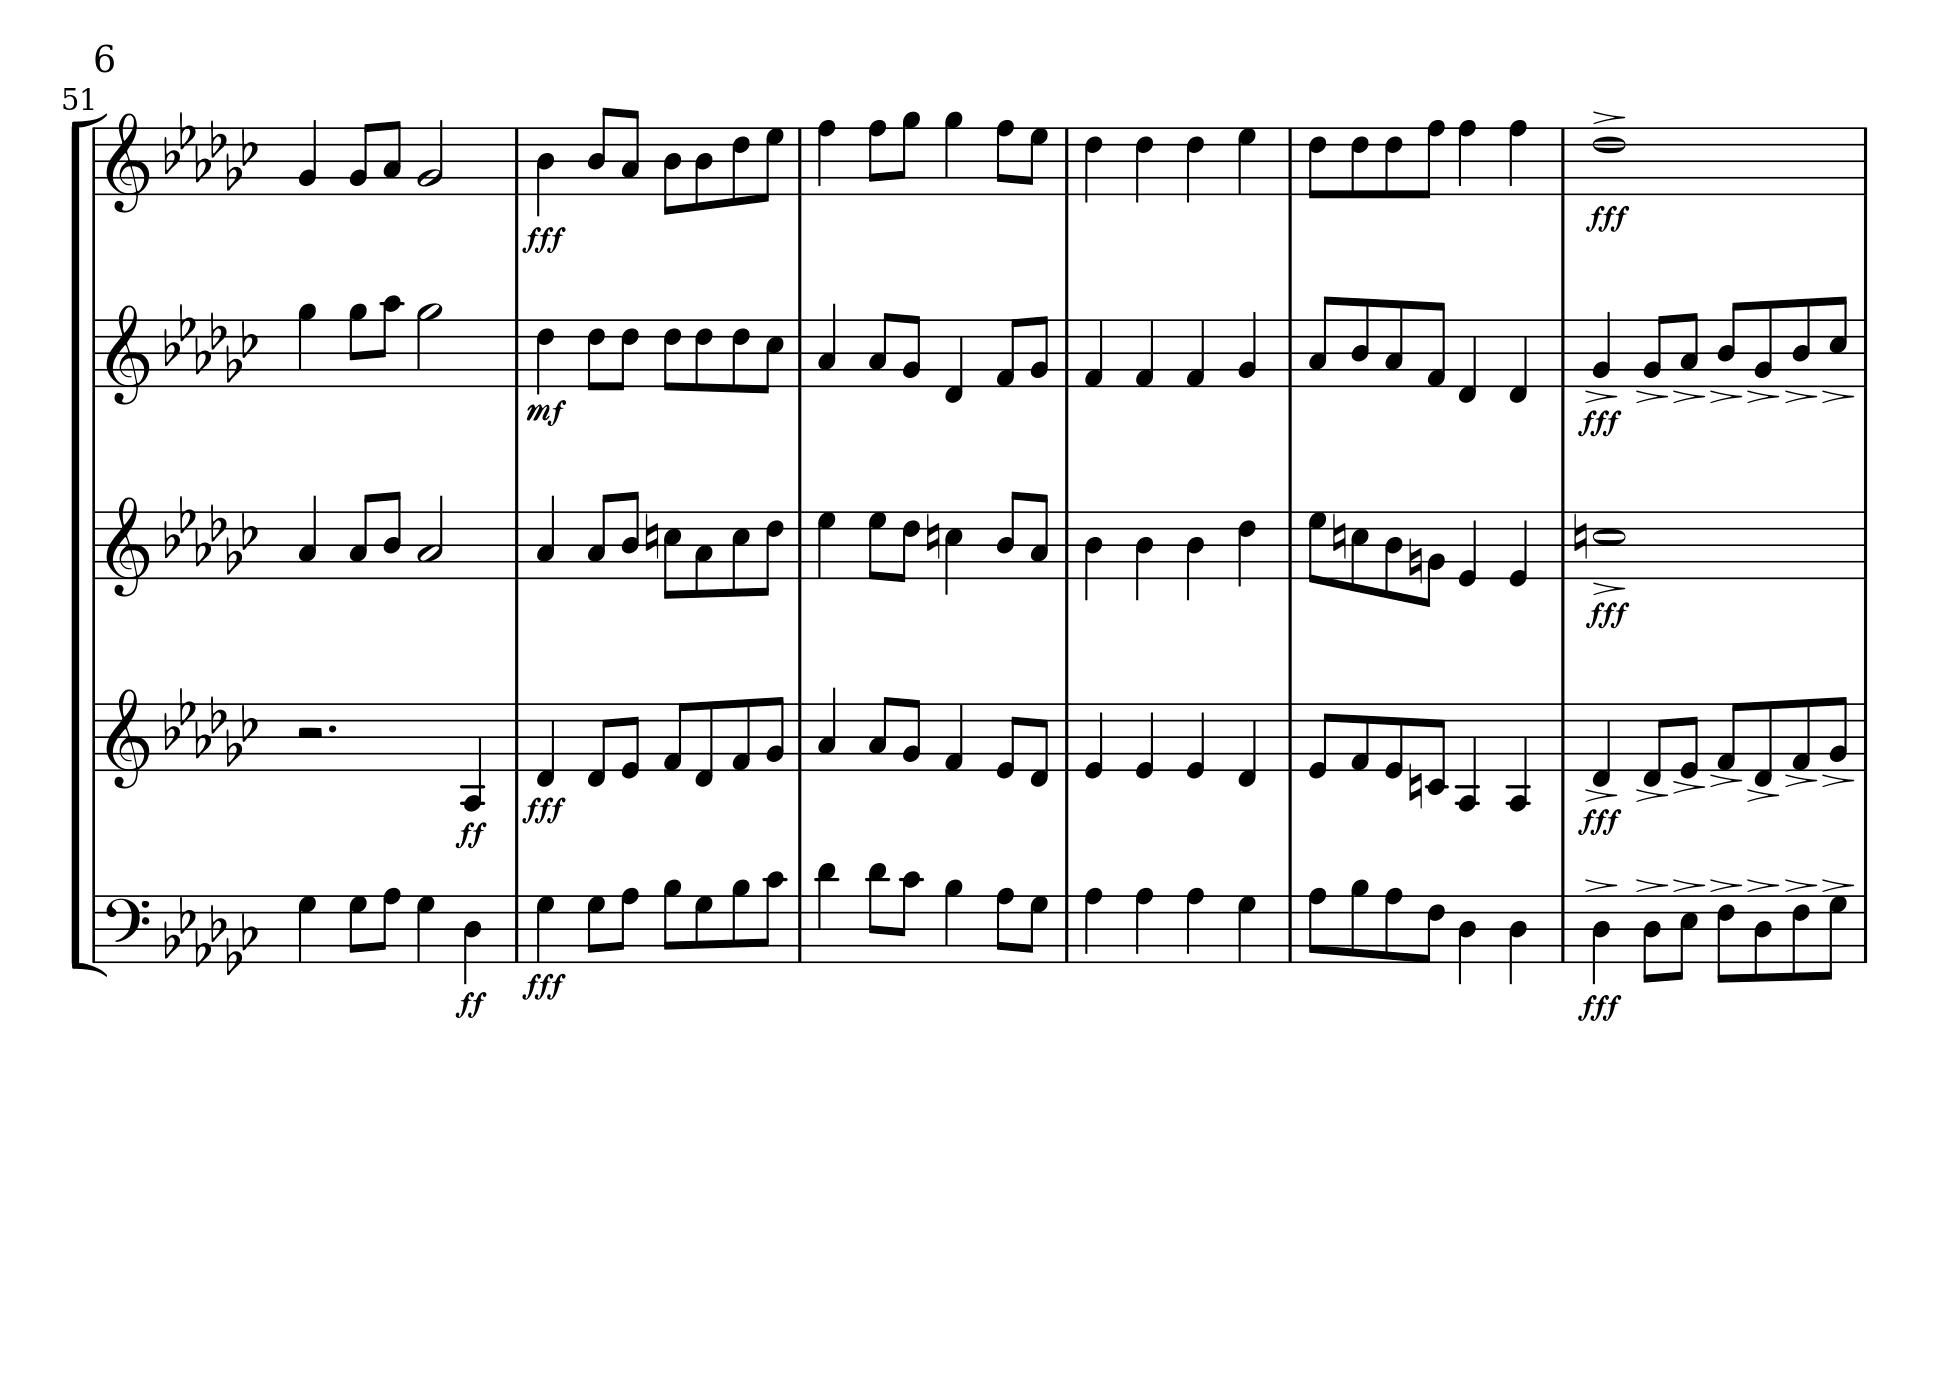1_5: (1593, 508, 1626, 580)
1_6: (1591, 127, 1626, 196)
2_2: (417, 117, 445, 196)
2_3: (415, 490, 447, 580)
2_9: (414, 301, 445, 390)
4_-1: (940, 316, 966, 403), (532, 700, 558, 787), (1234, 700, 1260, 787), (1588, 700, 1614, 787), (1456, 313, 1480, 403), (1506, 316, 1530, 403)
4_-4: (1453, 700, 1482, 811), (1504, 700, 1533, 811), (460, 699, 487, 811)
4_0: (1455, 508, 1480, 588), (1183, 700, 1209, 780), (1507, 508, 1531, 588), (1134, 700, 1158, 780), (1083, 700, 1107, 778)
4_1: (1081, 316, 1107, 388), (1132, 316, 1156, 388), (1183, 316, 1207, 388), (942, 700, 966, 772)
4_11: (813, 861, 838, 964)
4_2: (295, 115, 319, 196), (1590, 307, 1614, 388), (1236, 309, 1260, 388)
4_3: (295, 492, 319, 580), (816, 301, 838, 388), (535, 493, 558, 580), (816, 685, 838, 772)
4_4: (460, 892, 484, 985), (1506, 892, 1530, 985), (1083, 508, 1105, 603), (1183, 508, 1206, 601), (1456, 894, 1479, 987), (534, 126, 556, 217), (1590, 894, 1612, 985), (1134, 508, 1155, 603)
4_6: (532, 316, 559, 397), (1236, 508, 1258, 589), (1083, 124, 1104, 205), (1134, 124, 1155, 205), (1185, 124, 1206, 205)
4_7: (532, 892, 559, 964), (414, 892, 439, 964), (295, 892, 319, 964), (814, 508, 837, 580), (1236, 892, 1258, 964), (1236, 126, 1257, 196)
4_8: (1507, 117, 1530, 196), (1083, 885, 1105, 964), (1134, 885, 1156, 964), (1185, 885, 1207, 964), (814, 118, 837, 196), (1456, 118, 1479, 196)
4_9: (294, 301, 318, 388), (943, 109, 964, 196), (943, 877, 964, 964)
6: (94, 40, 115, 72)
8_-1: (1639, 700, 1671, 786), (583, 700, 613, 787), (693, 699, 715, 787), (1752, 699, 1774, 787), (1029, 700, 1050, 787)
8_-2: (1423, 700, 1449, 795)
8_0: (993, 700, 1021, 780), (1306, 700, 1335, 780), (619, 700, 642, 780), (1678, 700, 1701, 778), (1383, 700, 1404, 780)
8_1: (1713, 700, 1743, 772), (660, 700, 688, 772), (1425, 298, 1447, 388), (993, 316, 1020, 388), (729, 696, 751, 772), (1789, 696, 1812, 772), (1348, 700, 1371, 772)
8_10: (373, 294, 403, 387), (757, 870, 786, 964), (894, 868, 922, 963)
8_11: (865, 859, 889, 963)
8_2: (1422, 508, 1446, 610), (1752, 298, 1776, 388), (1639, 312, 1668, 387), (346, 120, 373, 195), (763, 694, 786, 772), (1827, 694, 1849, 771), (901, 313, 922, 388), (1029, 313, 1050, 388), (901, 697, 922, 772)
8_3: (1308, 294, 1336, 388), (346, 490, 375, 580), (585, 492, 613, 580), (1383, 297, 1407, 388), (691, 508, 714, 600), (867, 310, 892, 388), (867, 694, 892, 772), (619, 106, 640, 196), (1029, 490, 1050, 580), (1677, 310, 1701, 388), (381, 118, 402, 196)
8_4: (1716, 298, 1746, 388), (996, 489, 1023, 580), (586, 106, 613, 196), (1350, 295, 1372, 388), (1791, 295, 1813, 388), (381, 487, 403, 580), (1381, 508, 1404, 601), (619, 487, 640, 580), (661, 126, 682, 217), (1641, 894, 1662, 984), (1752, 892, 1773, 982), (693, 124, 714, 211)
8_5: (1671, 892, 1698, 981), (1827, 292, 1849, 387), (757, 316, 784, 394), (727, 508, 750, 598), (942, 508, 964, 598), (661, 507, 682, 600), (1350, 508, 1371, 594)
8_6: (756, 508, 786, 597), (613, 316, 640, 391), (1789, 892, 1812, 982), (894, 510, 921, 583), (1716, 892, 1737, 984), (1419, 894, 1446, 964), (729, 316, 751, 394), (729, 124, 750, 207), (585, 316, 607, 393), (691, 316, 714, 393), (1306, 124, 1329, 199), (661, 316, 682, 393), (1350, 124, 1371, 199), (1383, 124, 1404, 199)
8_7: (1819, 892, 1848, 981), (756, 124, 784, 202), (1023, 124, 1050, 196), (1023, 892, 1050, 964), (865, 508, 888, 580), (1306, 510, 1327, 586), (346, 892, 367, 964), (585, 892, 606, 964), (693, 894, 714, 964)
8_8: (1416, 118, 1446, 199), (610, 886, 640, 964), (375, 885, 403, 963), (994, 117, 1017, 196), (994, 885, 1017, 964), (1383, 885, 1405, 964), (865, 118, 888, 196), (1306, 886, 1329, 963)
8_9: (892, 109, 922, 196), (729, 877, 751, 964), (346, 301, 367, 388), (661, 877, 682, 964), (1350, 877, 1371, 964)
Accent_above: (1821, 769, 1854, 790), (1707, 874, 1744, 892), (1669, 874, 1707, 892), (1743, 874, 1780, 892), (1632, 876, 1669, 894), (1582, 784, 1618, 802), (1782, 874, 1818, 892), (1633, 786, 1668, 804), (1582, 874, 1617, 892), (1590, 108, 1626, 124), (1821, 388, 1854, 406), (1708, 771, 1741, 789), (1671, 777, 1704, 795), (1744, 786, 1779, 802), (1821, 874, 1852, 892), (1671, 388, 1704, 405), (1707, 388, 1740, 405), (1783, 772, 1815, 789), (1783, 388, 1813, 405), (1635, 388, 1666, 403), (1746, 388, 1777, 403), (1591, 580, 1623, 595), (1584, 388, 1614, 403)
Fclef: (103, 892, 150, 957)
G_F: (163, 892, 259, 975), (163, 685, 259, 766), (163, 301, 258, 382), (163, 493, 258, 574), (163, 109, 256, 190)
Gclef: (103, 685, 151, 789), (105, 109, 151, 214), (105, 493, 151, 598), (105, 303, 151, 406)
Natural: (1410, 525, 1432, 595), (1570, 510, 1590, 561), (1330, 508, 1348, 561), (1407, 760, 1425, 811), (924, 508, 940, 561), (1407, 535, 1425, 583), (643, 510, 660, 559)
Rests2: (292, 721, 325, 744)
Single_barline: (1554, 510, 1572, 577), (1857, 703, 1875, 771), (1059, 894, 1077, 961), (1554, 319, 1572, 385), (1857, 319, 1875, 385), (1554, 703, 1572, 769), (1554, 129, 1572, 193), (1059, 318, 1075, 387), (792, 700, 808, 769), (1059, 127, 1075, 195), (87, 127, 103, 195), (1282, 127, 1299, 195), (792, 510, 808, 577), (1282, 703, 1299, 771), (508, 894, 525, 961), (508, 127, 525, 193), (508, 319, 525, 385), (1282, 319, 1299, 385), (508, 511, 525, 577), (87, 895, 103, 961), (792, 895, 808, 961), (1857, 895, 1873, 961), (1857, 127, 1873, 192), (1857, 511, 1873, 576), (1555, 895, 1572, 960), (793, 127, 808, 195), (1284, 510, 1299, 577), (1284, 894, 1299, 961), (792, 319, 807, 385), (87, 319, 102, 385), (87, 511, 102, 577), (87, 703, 102, 769), (1059, 703, 1074, 769), (1059, 510, 1074, 574)
dot: (327, 721, 337, 733)
ff: (453, 816, 490, 852), (453, 988, 489, 1021)
fff: (520, 792, 570, 828), (1575, 804, 1626, 838), (520, 222, 568, 258), (1575, 406, 1624, 441), (519, 969, 568, 1003), (1575, 990, 1623, 1024), (1584, 202, 1632, 235), (1584, 598, 1632, 631)
mf: (523, 397, 568, 430)
